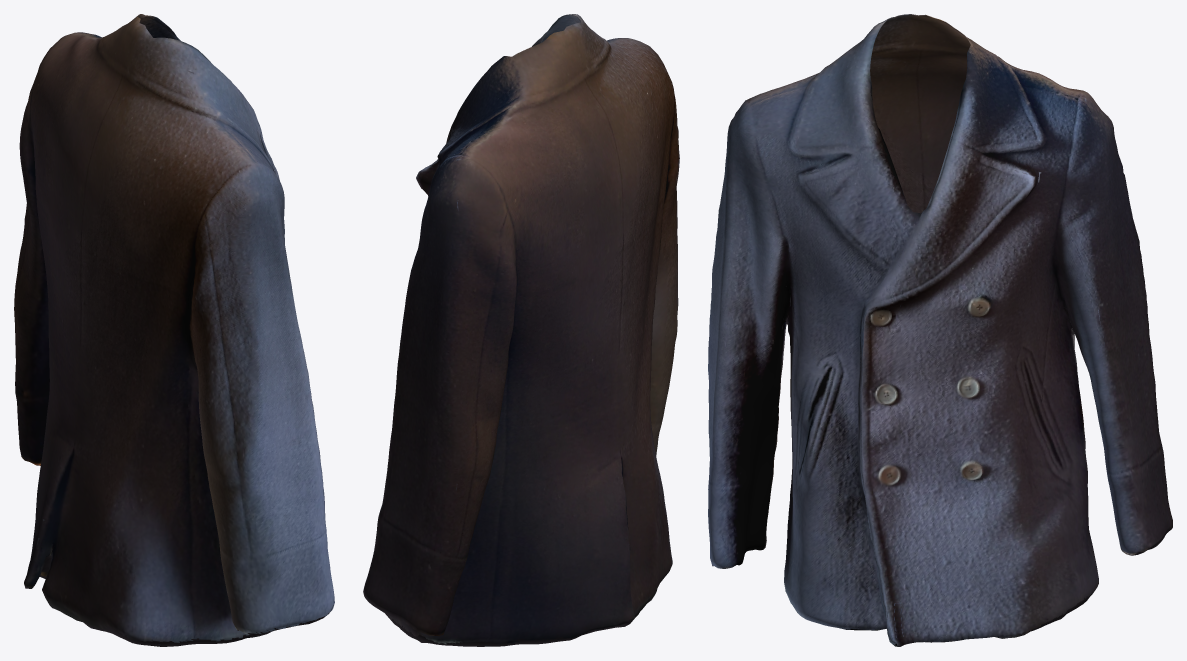
The model's file is jacket.glb.
3 views of the same model, side by side, from view 1: azimuth 30°, elevation 25°; view 2: azimuth 150°, elevation 25°; view 3: azimuth 270°, elevation 25° (orthographic). The views are drawn at different scales.
Visible parts, largest first — view 1: GIACCA_0; view 2: GIACCA_0; view 3: GIACCA_0.
Boxes of the visible parts, x1,y1,x2,y2 form: GIACCA_0: (14,14,334,646); GIACCA_0: (363,14,679,646); GIACCA_0: (708,14,1172,646).
Bounding box in the file's own units: 0.4299 × 0.914 × 0.691.
1 material, 1 textured.
